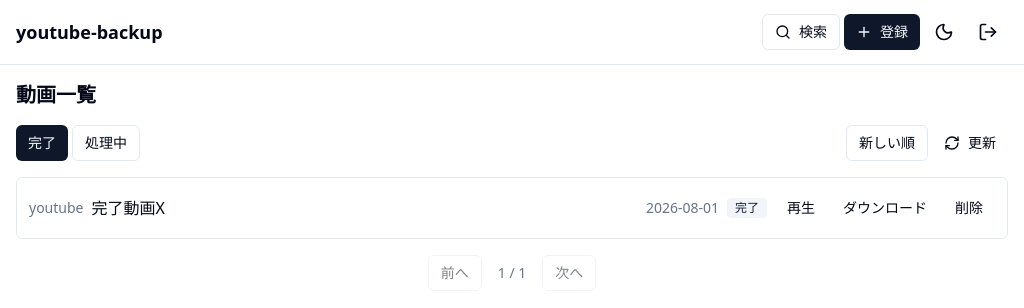
Test: VideoCatalog 結合（/videos / FR2.1〜2.4・FR8・US2.1〜2.5） › フィルタ結果 0 件で empty:filtered を描画する（FR8）
Expected: the text "完了動画X" is shown, [92,197,165,219]
Click the button "処理中".
click(106, 143)  # box [72,125,140,161]
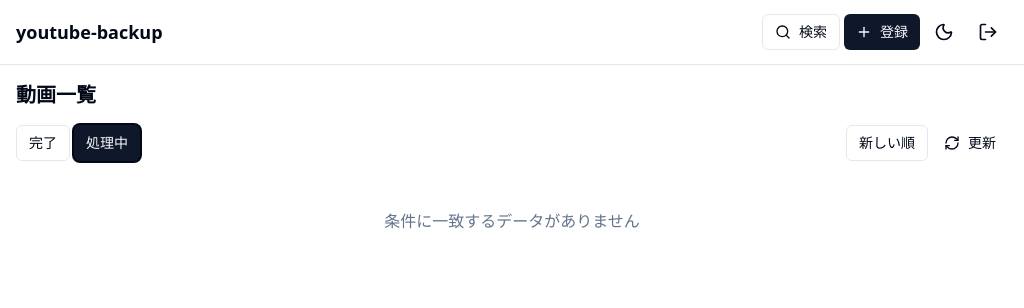
Now the text "条件に一致するデータがありません" is shown, box [384,210,640,232]
